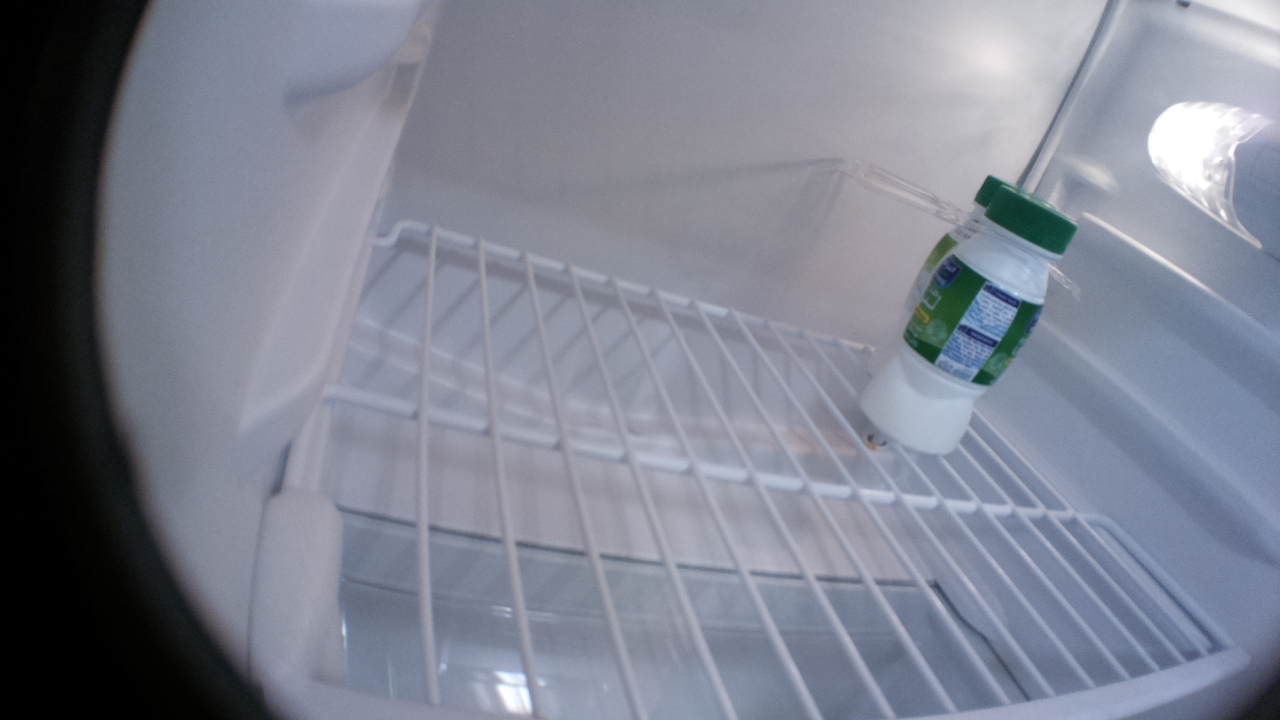laban: (858, 183, 1086, 456), (813, 166, 1005, 380)
